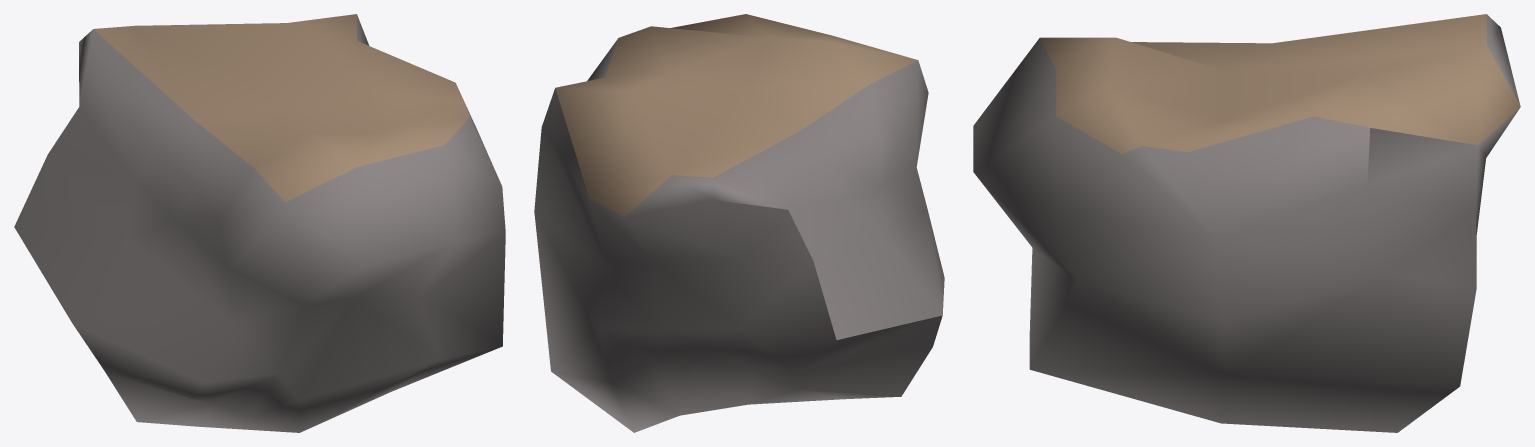
File: Berg_7.fbx
The picture shows the model from 3 angles, left to right: view 1: azimuth 30°, elevation 25°; view 2: azimuth 150°, elevation 25°; view 3: azimuth 270°, elevation 25°; orthographic projection. The views are drawn at different scales.
Visible parts, largest first — view 1: Berg_7; view 2: Berg_7; view 3: Berg_7.
Part boxes in pixels (x1,y1,x2,y2): Berg_7: (14,14,505,432); Berg_7: (534,14,944,432); Berg_7: (973,14,1520,432).
Bounding box in the file's own units: 1842 × 1465 × 1975.
